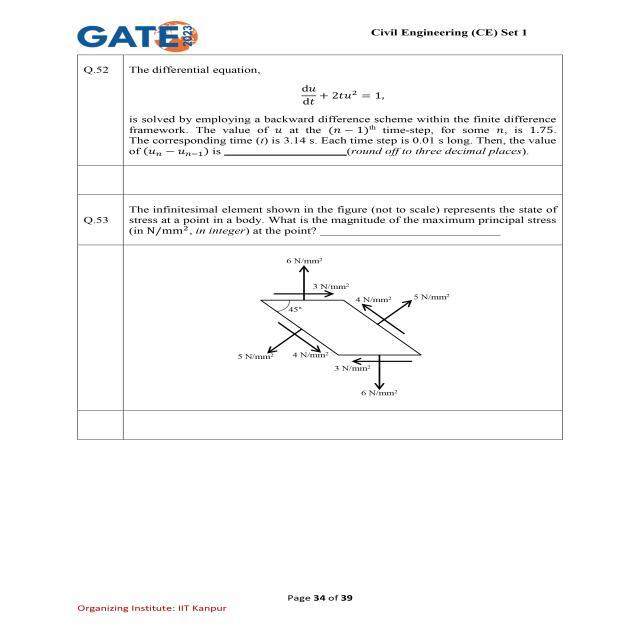Question_Answer_Block: (79, 196, 564, 410), (77, 54, 560, 164)
Question_Block: (80, 195, 563, 408), (75, 55, 563, 164)
Question_Paper_Area: (76, 57, 564, 439)
